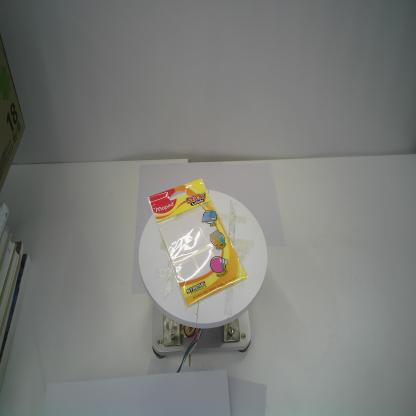Stationery: (147, 177, 249, 309)
